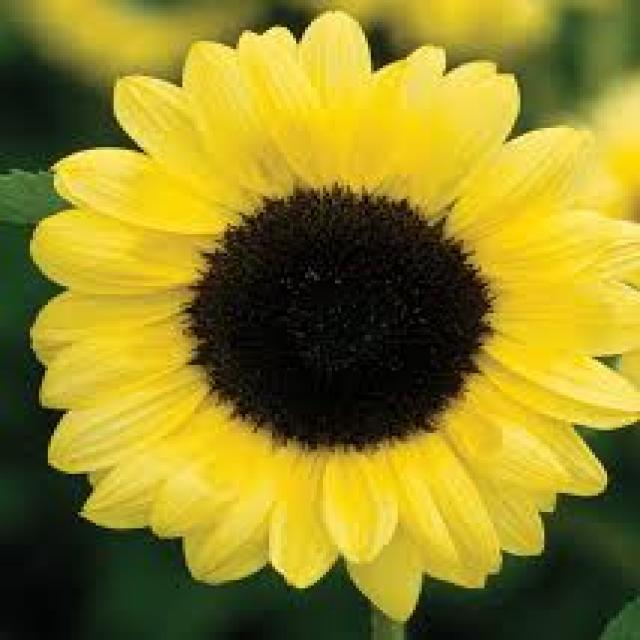sunflower: (22, 7, 640, 630)
